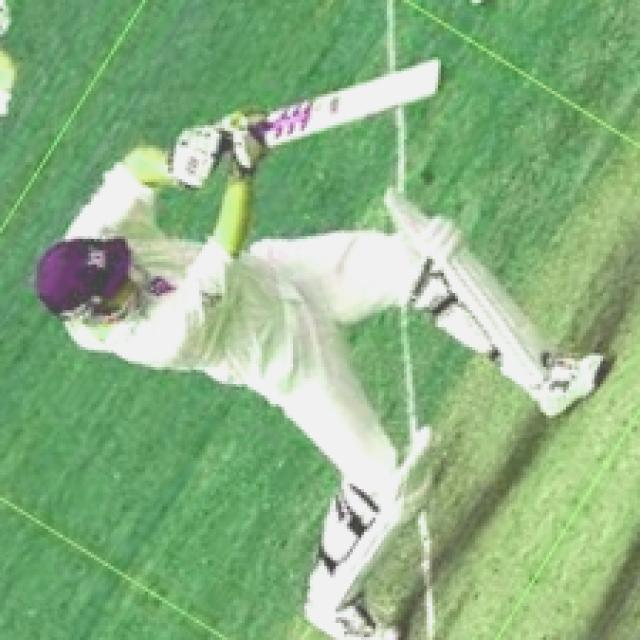bat: (259, 57, 459, 128)
toe: (422, 59, 458, 98)
